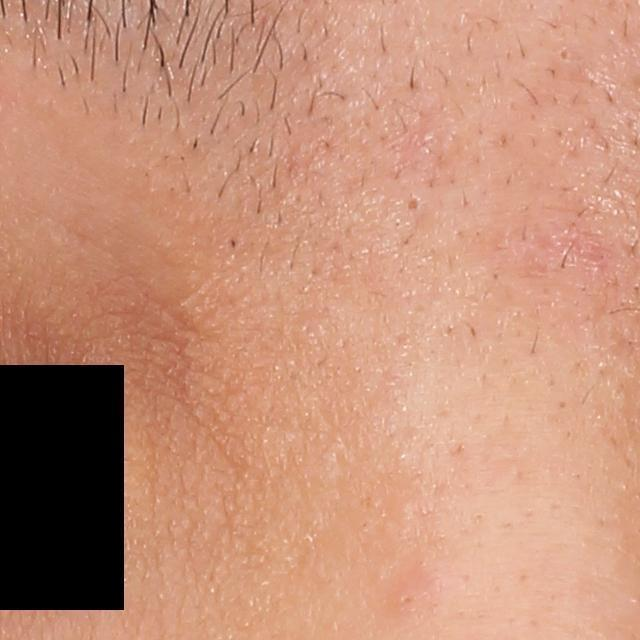comedo: (398, 193, 429, 221), (556, 45, 574, 64)
